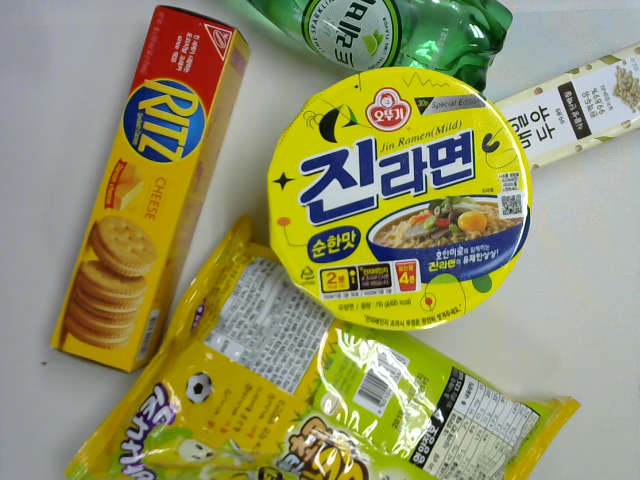99.89_Soymilk: (487, 41, 640, 179)
Banana_Kick: (62, 215, 581, 480)
Jinlamyeon_Mild_Taste_Large_Cup: (266, 64, 539, 332)
Ritz_Sand_Cracker: (42, 1, 253, 377)
Treviraim_500ml: (250, 1, 511, 99)
